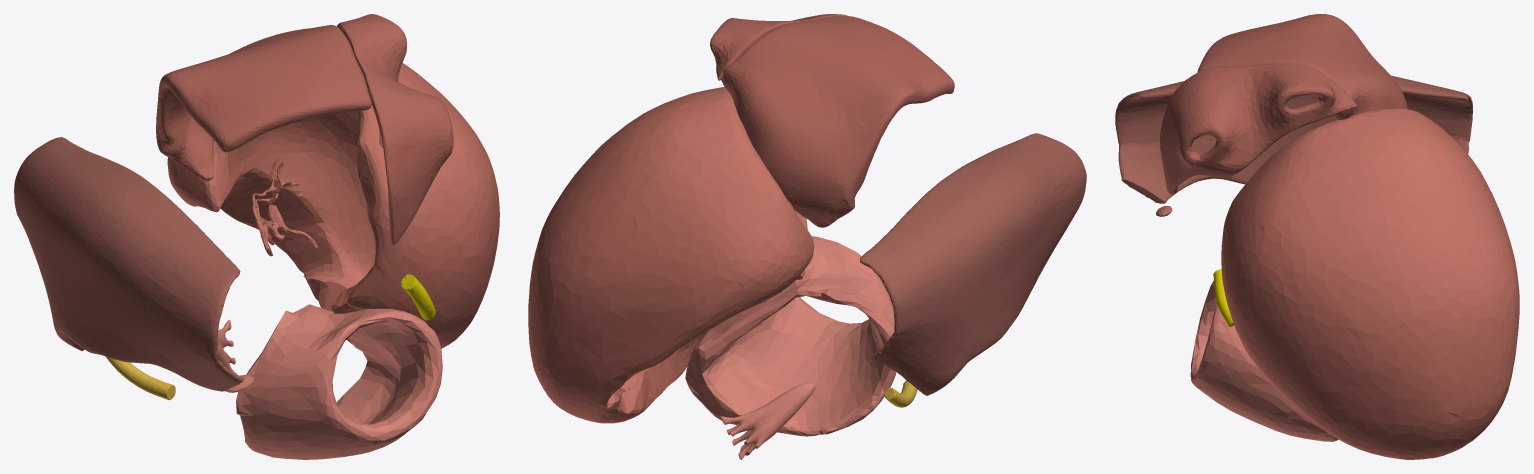
The model's file is heart_anatomy.glb.
3 views of the same model, side by side, from view 1: azimuth 30°, elevation 25°; view 2: azimuth 150°, elevation 25°; view 3: azimuth 270°, elevation 25° (orthographic). The views are drawn at different scales.
Parts seen in each view (by area): view 1: world; view 2: world; view 3: world.
Part boxes in pixels (<box>): world: <box>14,14,499,459</box>; world: <box>528,14,1086,459</box>; world: <box>1115,14,1519,459</box>.
Size of the model in its own units: 1.79 by 1.63 by 1.6.
